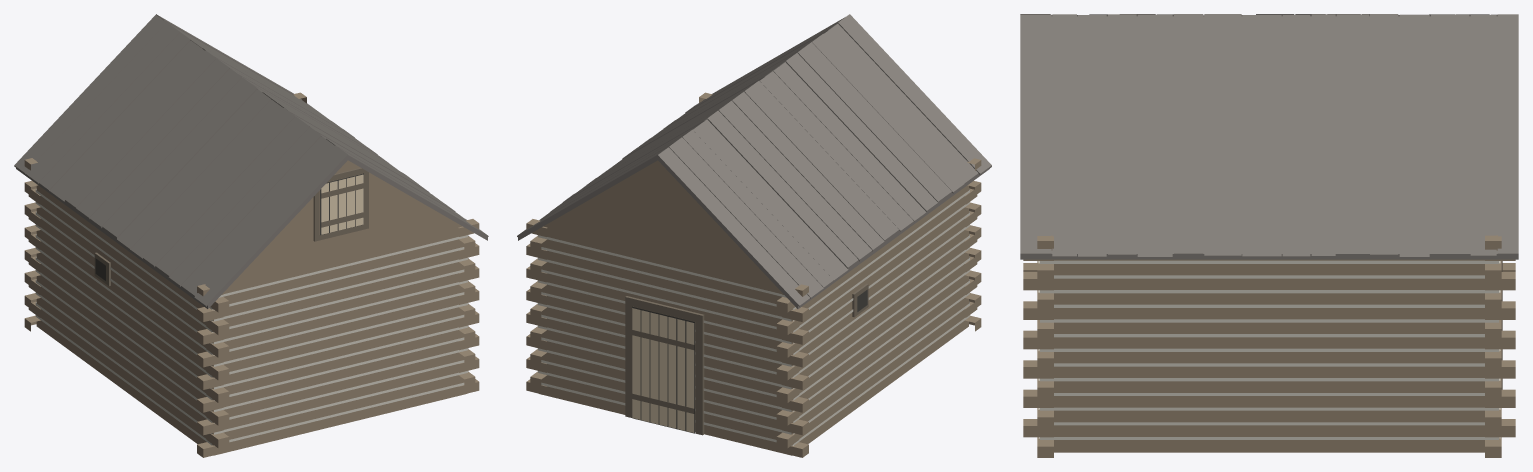
Rendered from recon_1835_blk_randolph_clinton_a1_06__inferred_1835.glb.
3 views of the same model, side by side, from view 1: azimuth 30°, elevation 25°; view 2: azimuth 150°, elevation 25°; view 3: azimuth 270°, elevation 25° (orthographic). The views are drawn at different scales.
Visible parts, largest first — view 1: recon_1835_blk_randolph_clinton_a1_06__inferred_1835; view 2: recon_1835_blk_randolph_clinton_a1_06__inferred_1835; view 3: recon_1835_blk_randolph_clinton_a1_06__inferred_1835.
Part boxes in pixels (x1=…): recon_1835_blk_randolph_clinton_a1_06__inferred_1835: x1=14, y1=14, x2=488, y2=457; recon_1835_blk_randolph_clinton_a1_06__inferred_1835: x1=517, y1=14, x2=991, y2=457; recon_1835_blk_randolph_clinton_a1_06__inferred_1835: x1=1020, y1=14, x2=1518, y2=457.
Size of the model in its own units: 6.13 by 5.68 by 7.16.
